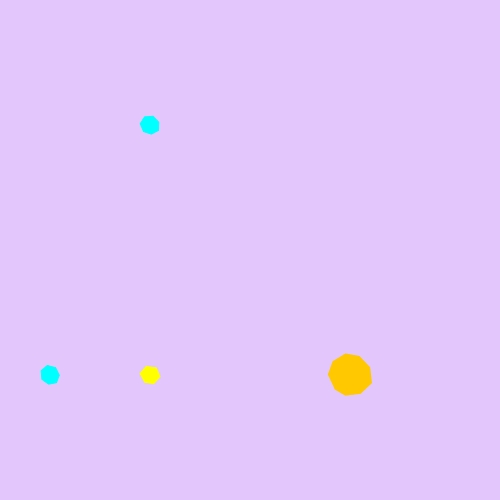heptagon: (136, 111, 165, 139), (36, 361, 65, 389)
hexagon: (135, 362, 165, 388)
nonagon: (324, 351, 376, 400)
